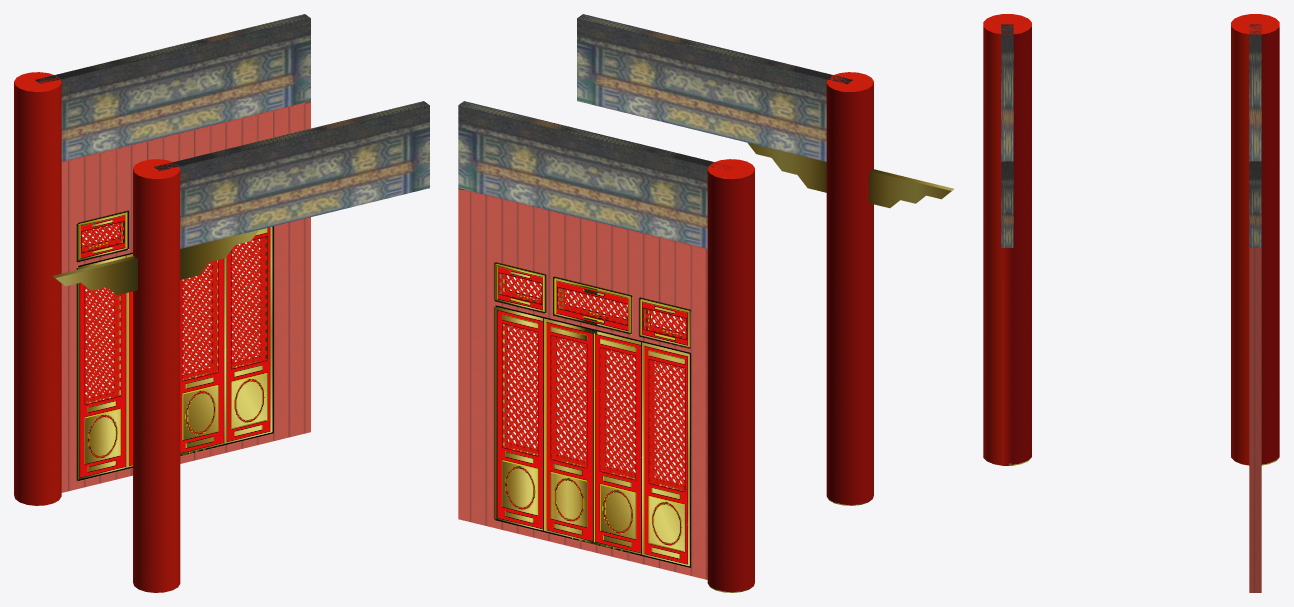
File: colwall.dae
The picture shows the model from 3 angles, left to right: view 1: azimuth 30°, elevation 25°; view 2: azimuth 150°, elevation 25°; view 3: azimuth 270°, elevation 25°; orthographic projection. The views are drawn at different scales.
Parts seen in each view (by area): view 1: MainNode; view 2: MainNode; view 3: MainNode.
Part boxes in pixels (<box>): MainNode: <box>14,14,429,592</box>; MainNode: <box>458,14,953,592</box>; MainNode: <box>983,14,1279,592</box>.
Size of the model in its own units: 4.53 by 4.8 by 2.99.
Materials: 1 (1 with a texture image).
